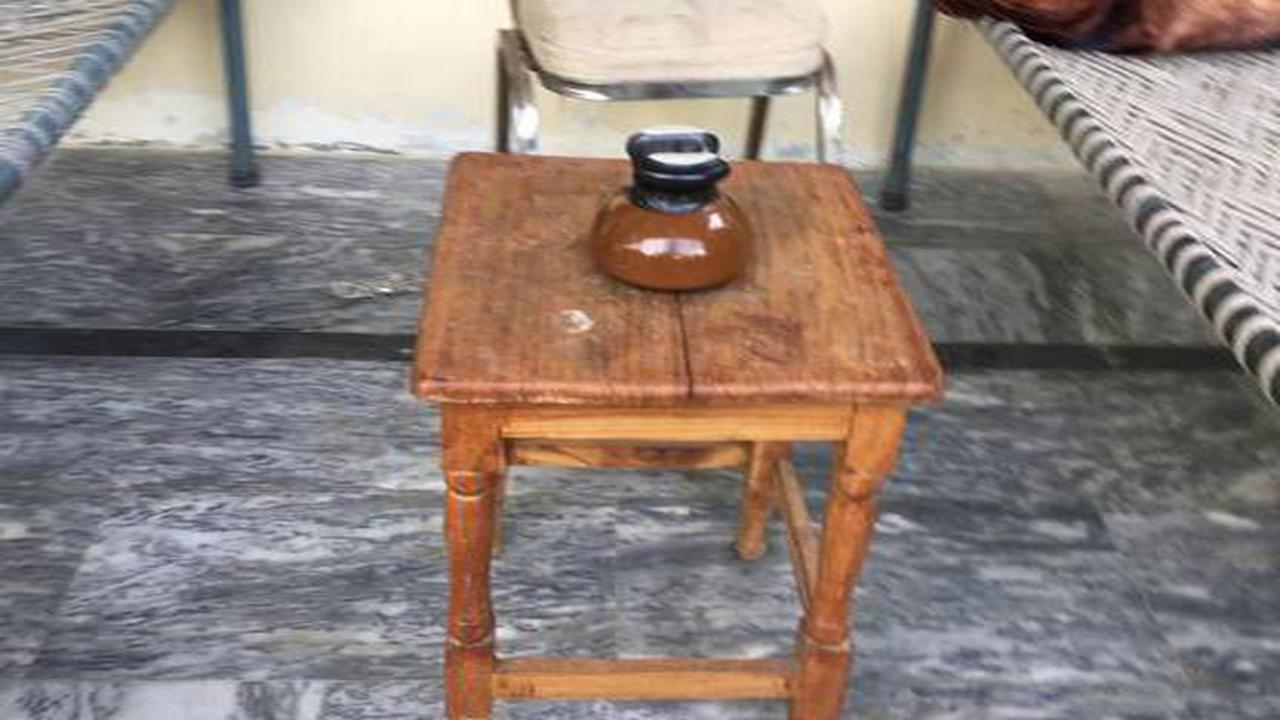insulator_pin: (567, 111, 773, 305)
